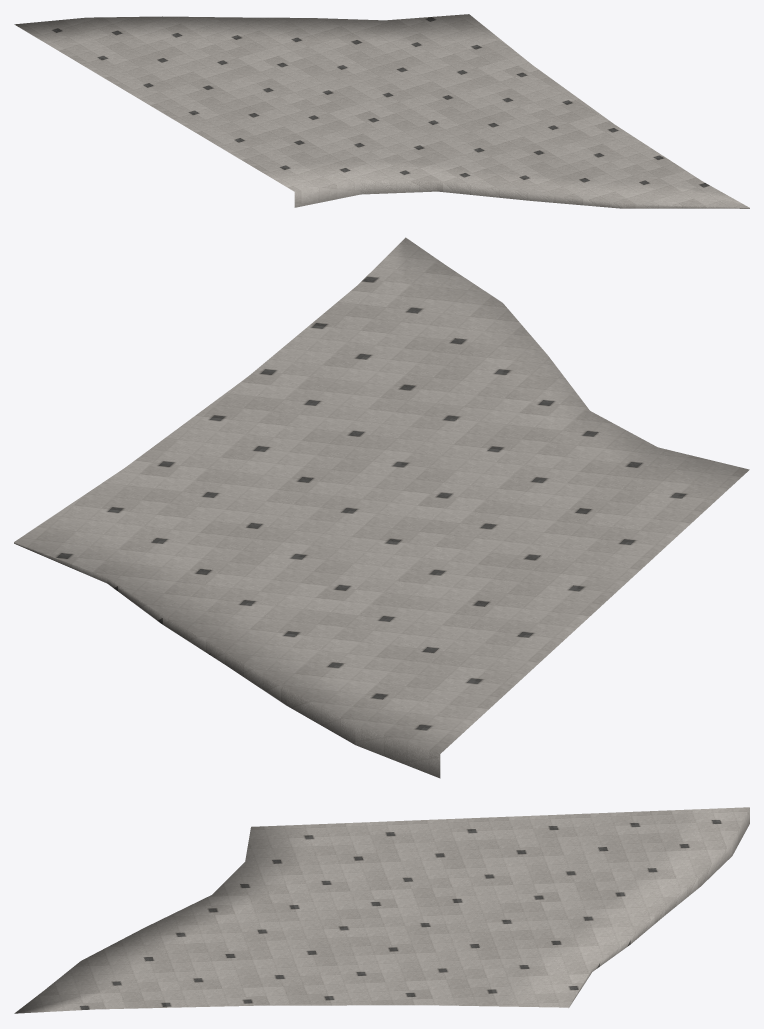
3 views of the same model, one above another, from view 1: azimuth 30°, elevation 25°; view 2: azimuth 150°, elevation 25°; view 3: azimuth 270°, elevation 25° (orthographic). The views are drawn at different scales.
Parts seen in each view (by area): view 1: geometry_0; view 2: geometry_0; view 3: geometry_0.
Boxes of the visible parts, x1=… form: geometry_0: x1=14, y1=14, x2=749, y2=208; geometry_0: x1=14, y1=237, x2=749, y2=778; geometry_0: x1=14, y1=807, x2=749, y2=1013.
Size of the model in its own units: 13.8 by 0.5569 by 22.47.
Materials: 1 (1 with a texture image).
